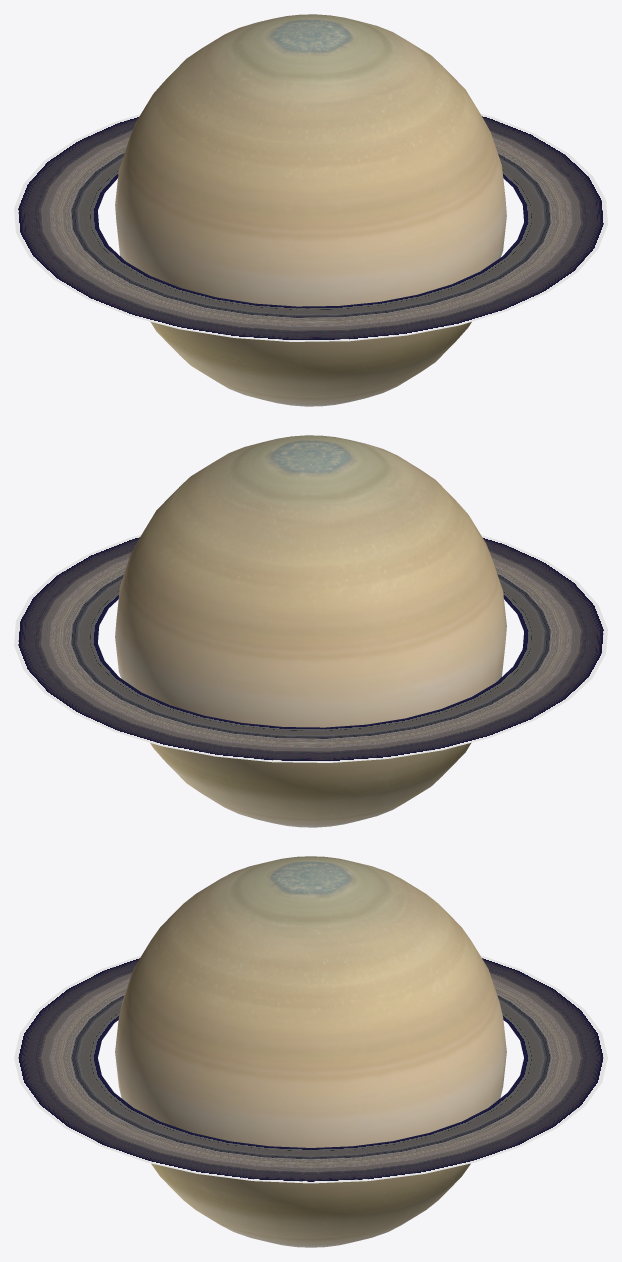
The model's file is Saturn.glb.
3 views of the same model, one above another, from view 1: azimuth 30°, elevation 25°; view 2: azimuth 150°, elevation 25°; view 3: azimuth 270°, elevation 25° (orthographic).
Parts seen in each view (by area): view 1: Saturn, Saturn_ring; view 2: Saturn, Saturn_ring; view 3: Saturn, Saturn_ring.
Part boxes in pixels (left/top/right/bottom): Saturn: left=115, top=14, right=506, bottom=406; Saturn_ring: left=14, top=113, right=607, bottom=341; Saturn: left=115, top=435, right=506, bottom=827; Saturn_ring: left=14, top=534, right=607, bottom=762; Saturn: left=115, top=856, right=506, bottom=1247; Saturn_ring: left=14, top=955, right=607, bottom=1183.
Bounding box in the file's own units: 3.29 × 2.17 × 3.29.
Materials: 2 (2 with a texture image).
